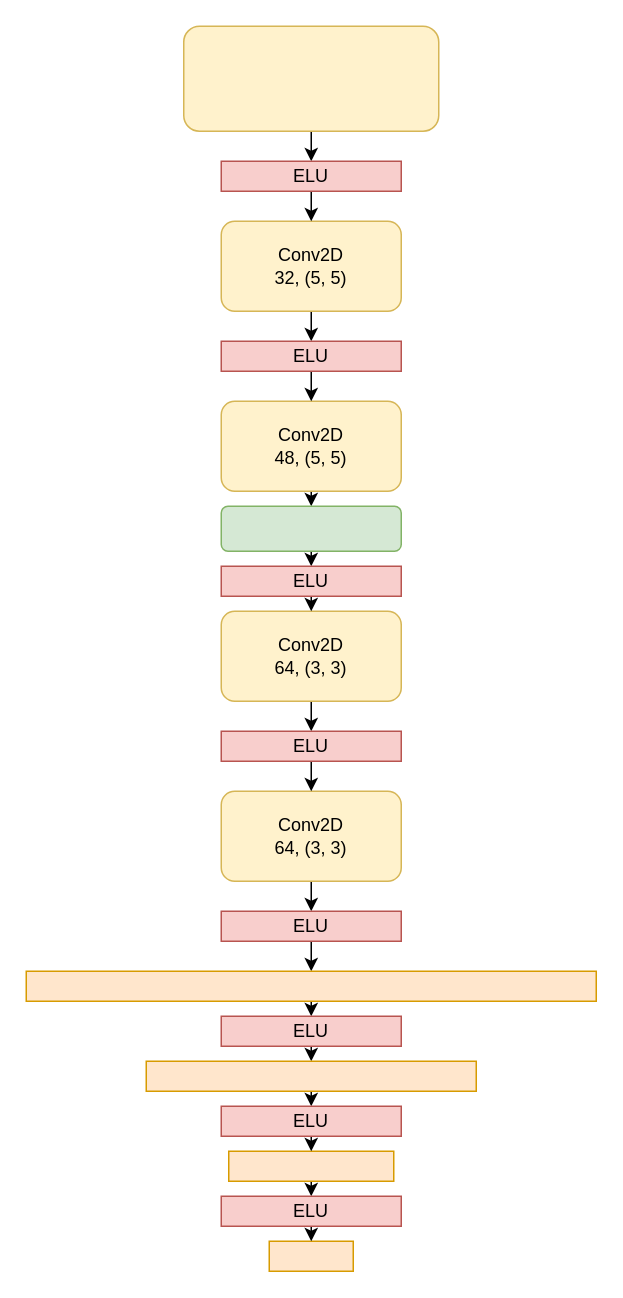
The diagram is 623 pixels wide and 1298 high, and some of its shapes have lost their labels. The shapes that lost their labels are listed below. From the top down, each one's centre as x and y in pixels, then its label:
At (x=310, y=78): "Conv2D 16, (5, 5) Input Shape = (240, 320, 3)".
At (x=310, y=528): "Dropout (0.5)".
At (x=310, y=985): "Dense 128".
At (x=310, y=1075): "Dense 64".
At (x=310, y=1165): "Dense 16".
At (x=310, y=1255): "Dense 1".
